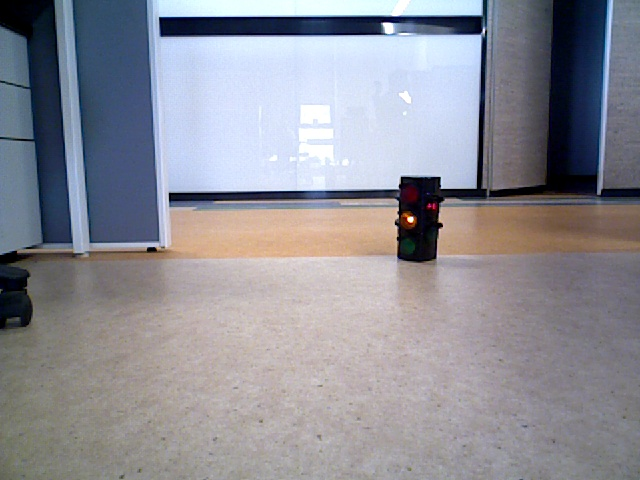yellow: (400, 177, 439, 261)
